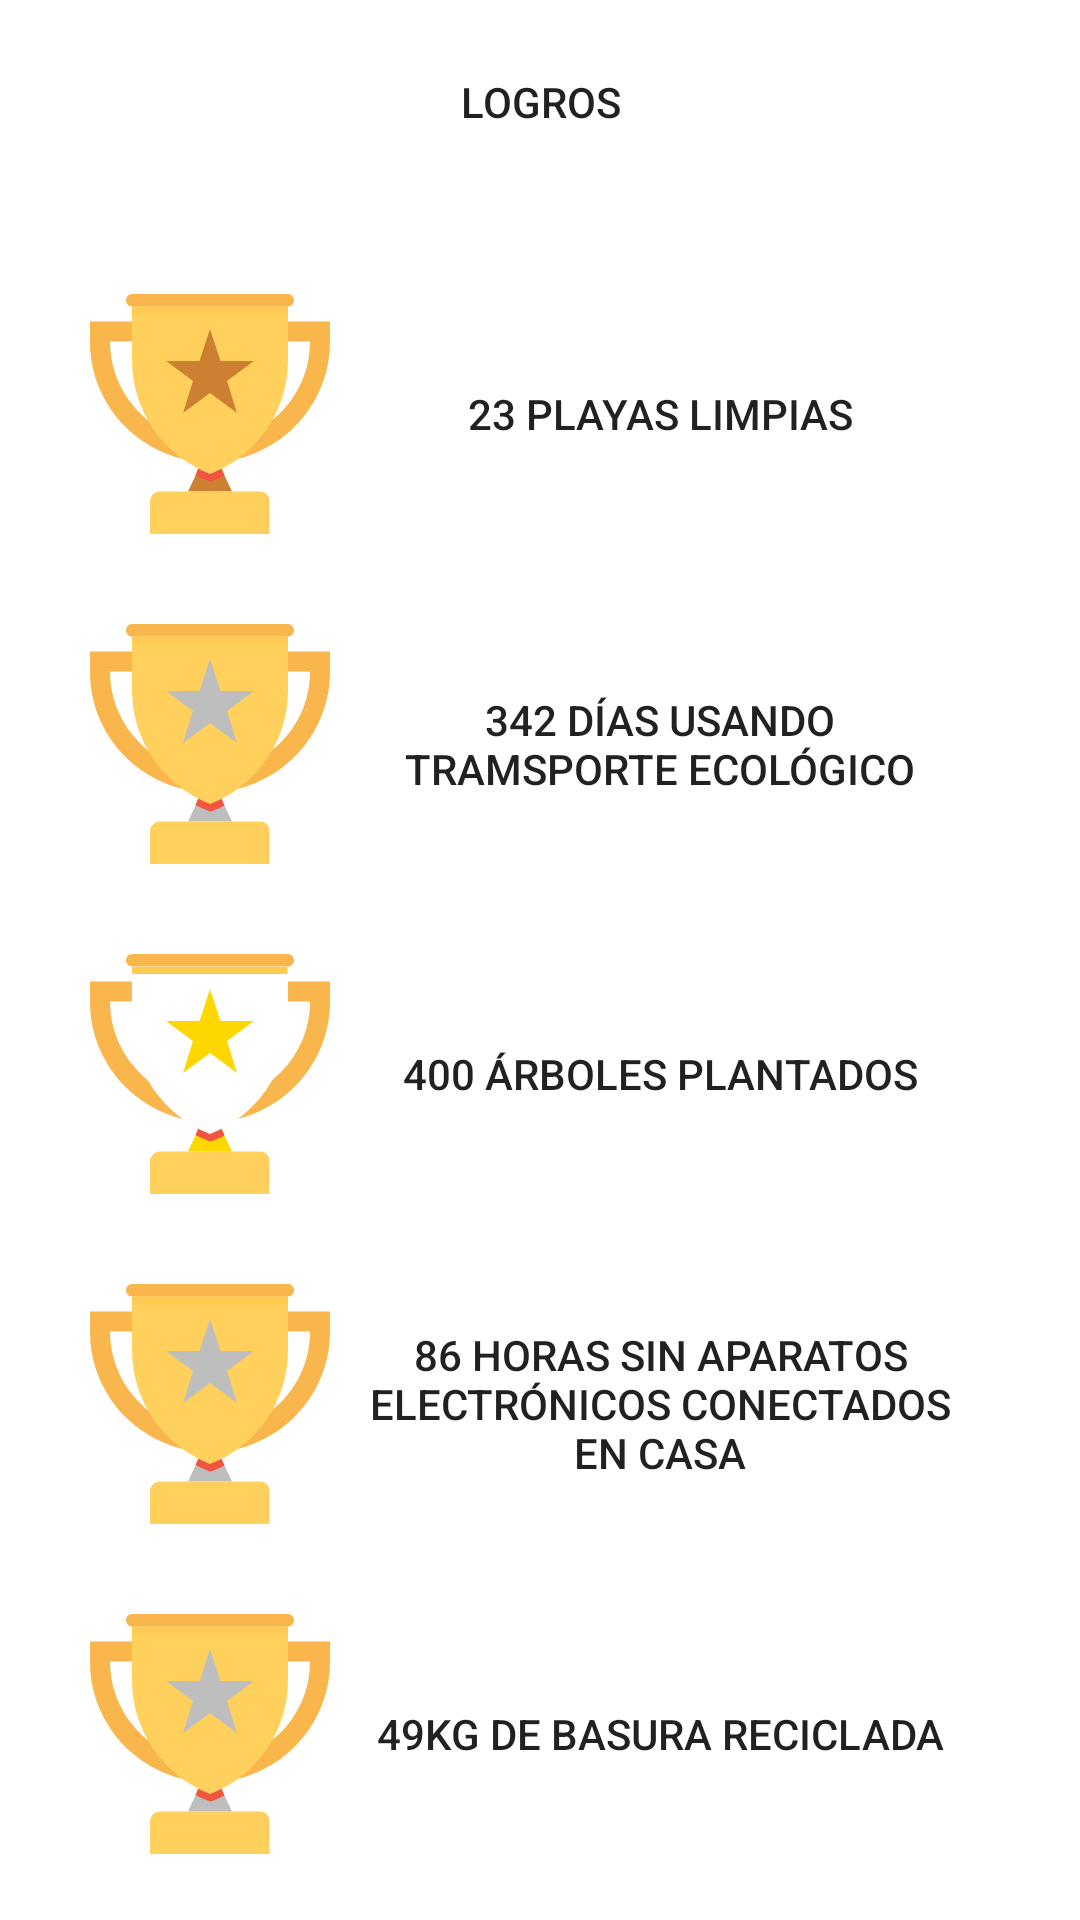

Where icons sit on this 1080px×1920px app screen, as [x1,y1,x2,y2]:
trophy cup bronce: [90,294,330,534]
trophy cup plata: [90,624,330,864], [90,1284,330,1524], [90,1614,330,1854]
